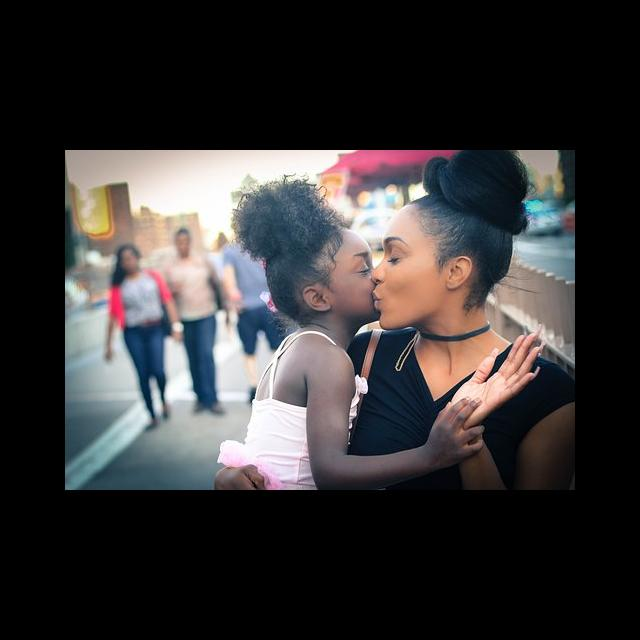female: (374, 189, 532, 318), (235, 181, 376, 317)
